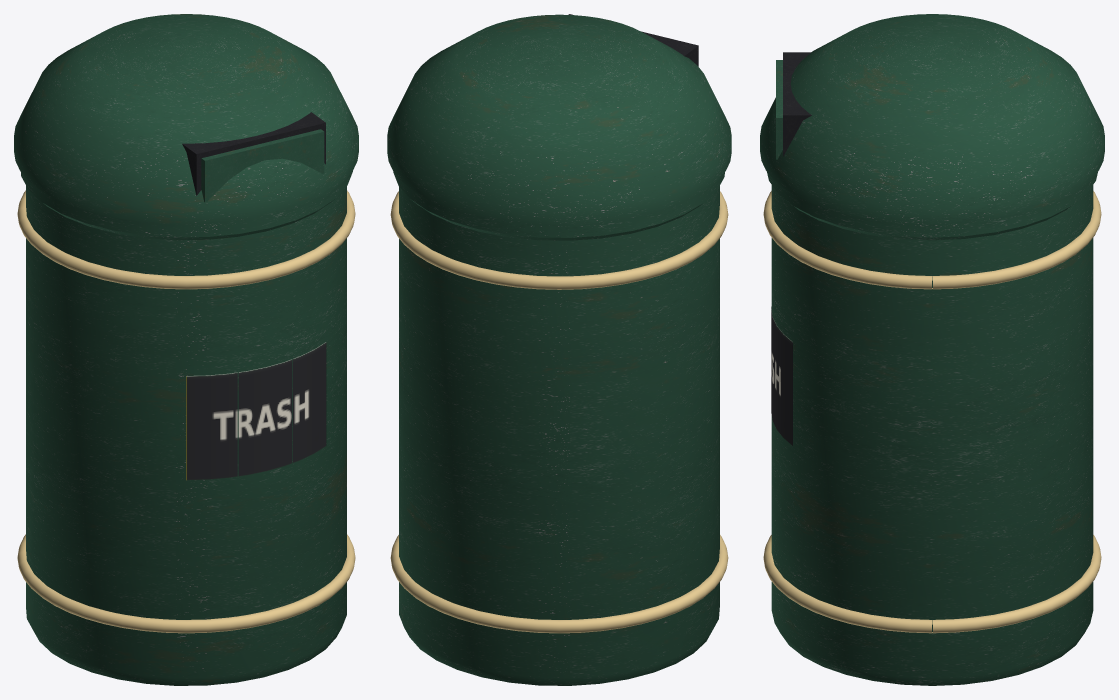
The model's file is SM_QUE_TrashCan.fbx.
The picture shows the model from 3 angles, left to right: view 1: azimuth 30°, elevation 25°; view 2: azimuth 150°, elevation 25°; view 3: azimuth 270°, elevation 25°; orthographic projection.
Parts seen in each view (by area): view 1: SM_QUE_TrashCan_LOD0; view 2: SM_QUE_TrashCan_LOD0; view 3: SM_QUE_TrashCan_LOD0.
Part boxes in pixels (x1,y1,x2,y2): SM_QUE_TrashCan_LOD0: (14, 14, 358, 685); SM_QUE_TrashCan_LOD0: (387, 14, 731, 685); SM_QUE_TrashCan_LOD0: (760, 14, 1104, 685).
Size of what is drawn, in the model's own units: 0.6 by 1.1 by 0.6.
